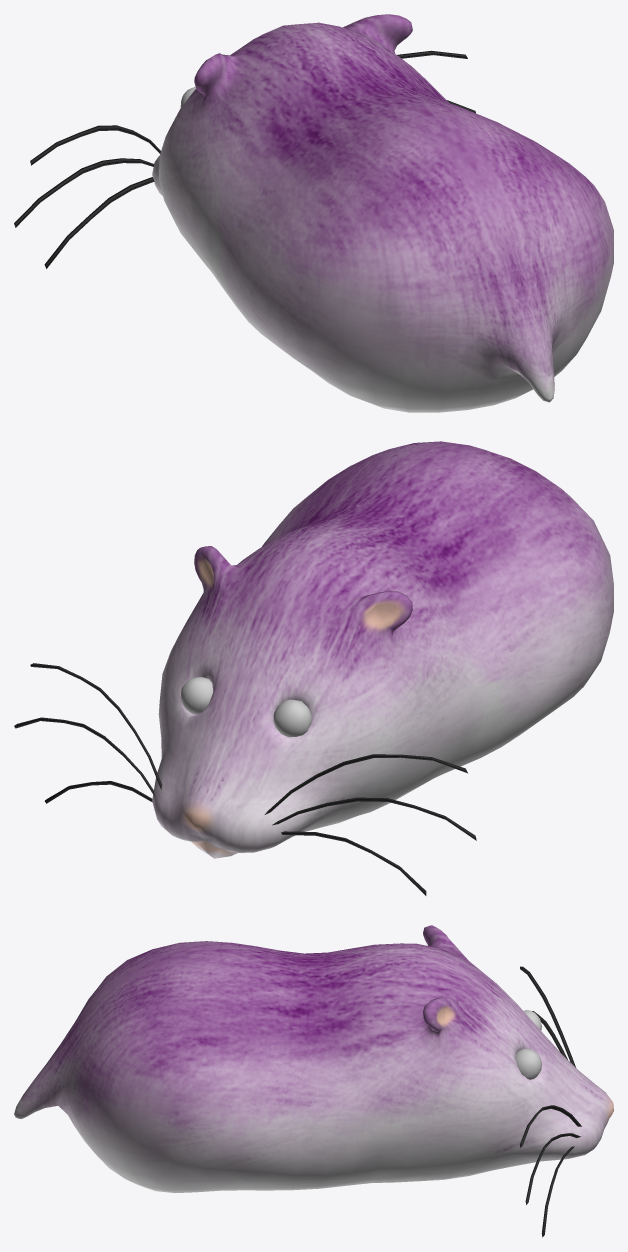
File: ハムスター3(毒).fbx
3 views of the same model, one above another, from view 1: azimuth 30°, elevation 25°; view 2: azimuth 150°, elevation 25°; view 3: azimuth 270°, elevation 25° (orthographic). The views are drawn at different scales.
Visible parts, largest first — view 1: PolySphere_2, PolyMesh3D_2; view 2: PolySphere_2, PolyMesh3D_2, ハムスター3_毒_; view 3: PolySphere_2, PolyMesh3D_2, ハムスター3_毒_.
Boxes of the visible parts, x1,y1,x2,y2 form: PolySphere_2: (152,14,613,412); PolyMesh3D_2: (14,50,475,268); PolySphere_2: (152,441,613,858); PolyMesh3D_2: (14,663,476,895); ハムスター3_毒_: (180,677,311,737); PolySphere_2: (14,925,613,1193); PolyMesh3D_2: (520,966,581,1237); ハムスター3_毒_: (515,1010,541,1079).
Size of the model in its own units: 3.61 by 1.93 by 4.85.
